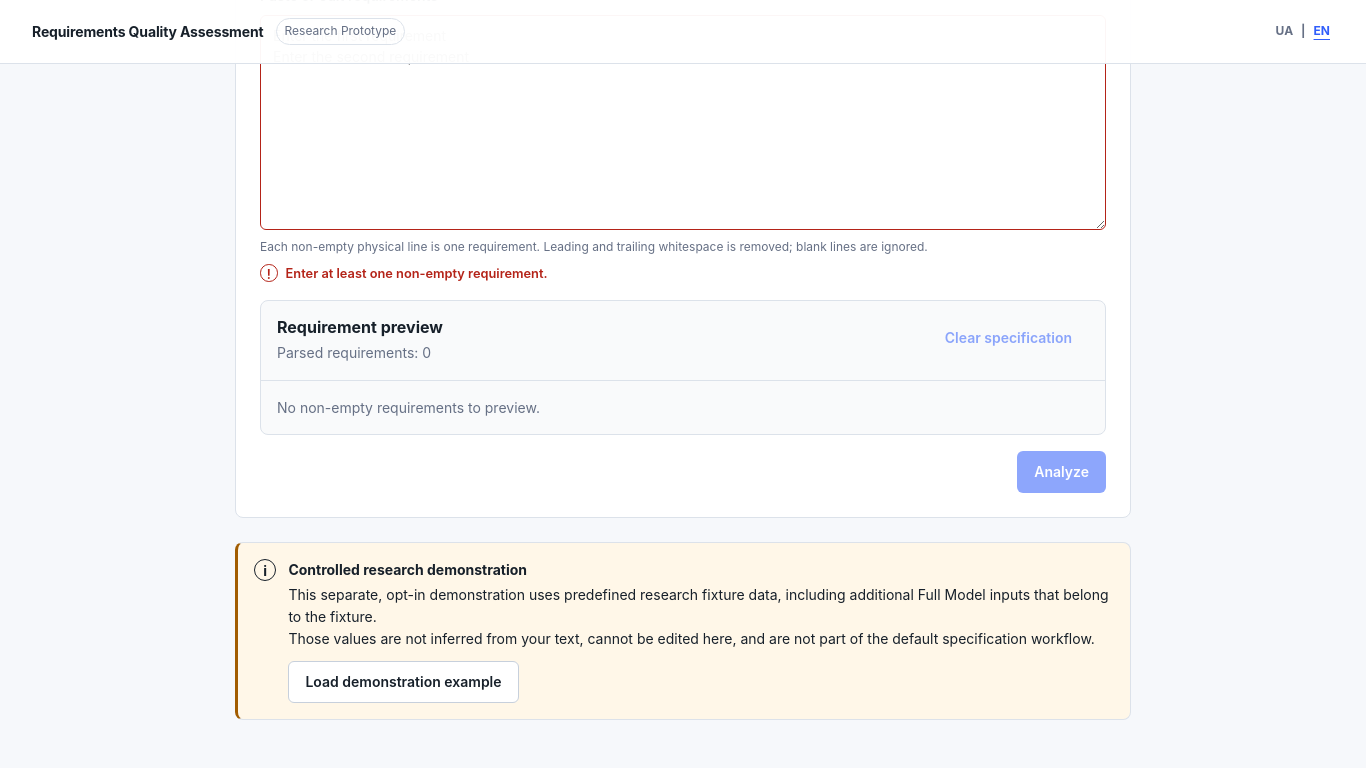
Test: RUI-06 analysis lifecycle › sends exactly one accepted controlled-demo request
(page scrolled)
Click the button "Load demonstration example": {"x": 404, "y": 682} [288,661,519,703]
(page scrolled)
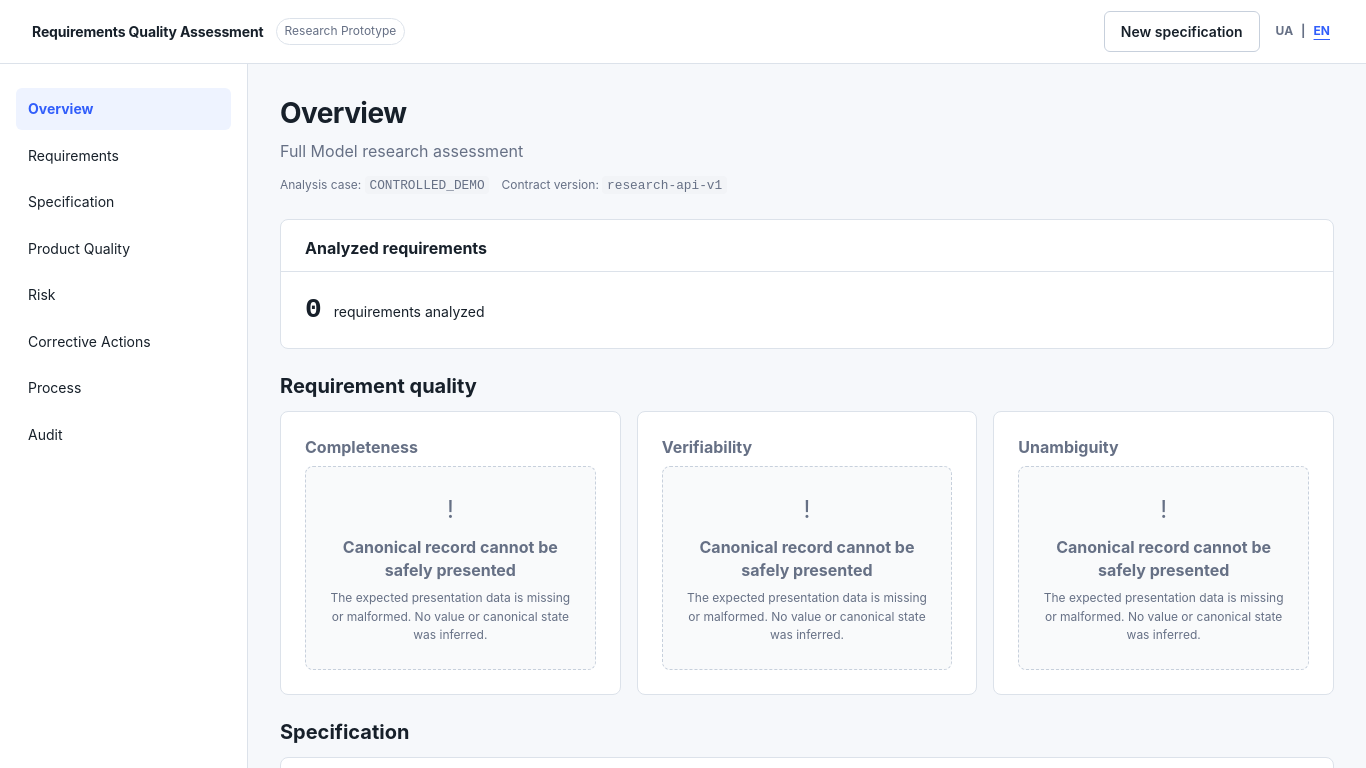
Check: the heading "Overview" is shown, box [280,96,406,130]
